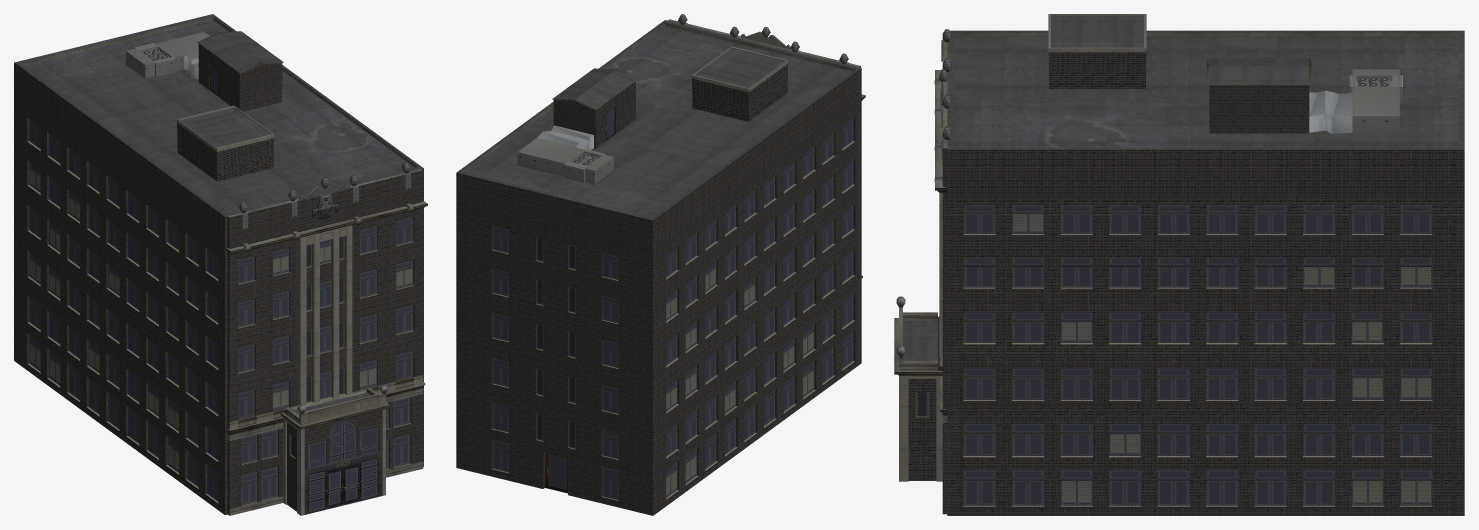
Rendered from loring_medical_building.glb.
3 views of the same model, side by side, from view 1: azimuth 30°, elevation 25°; view 2: azimuth 150°, elevation 25°; view 3: azimuth 270°, elevation 25° (orthographic). The views are drawn at different scales.
Visible parts, largest first — view 1: Object_2; view 2: Object_2; view 3: Object_2.
Boxes of the visible parts, <box> form: Object_2: <box>14,14,427,515</box>; Object_2: <box>456,14,865,515</box>; Object_2: <box>894,14,1464,515</box>.
Size of the model in its own units: 1348 by 2199 by 2729.
Materials: 1 (1 with a texture image).
